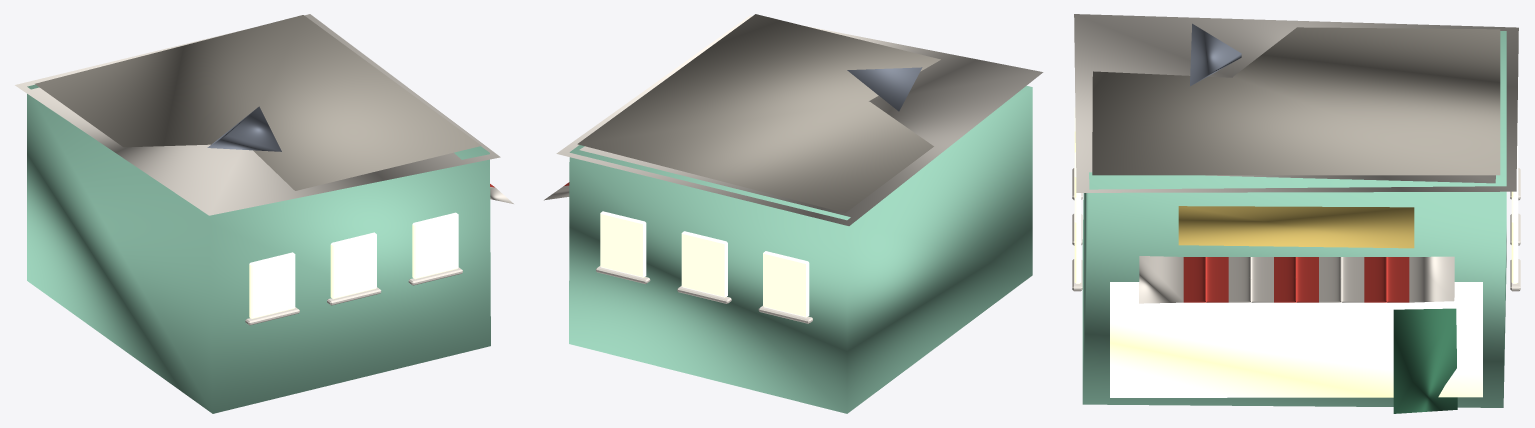
File: shop.glb
3 renders of one model, left to right at view 1: azimuth 30°, elevation 25°; view 2: azimuth 150°, elevation 25°; view 3: azimuth 270°, elevation 25°, orthographic. The views are drawn at different scales.
Visible parts, largest first — view 1: shop; view 2: shop; view 3: shop.
Part boxes in pixels (bbox=[...]): shop: bbox=[15, 14, 513, 413]; shop: bbox=[544, 14, 1043, 413]; shop: bbox=[1072, 14, 1520, 413].
Bounding box in the file's own units: 8.2 × 5.41 × 8.34.
Materials: 1 (1 with a texture image).
